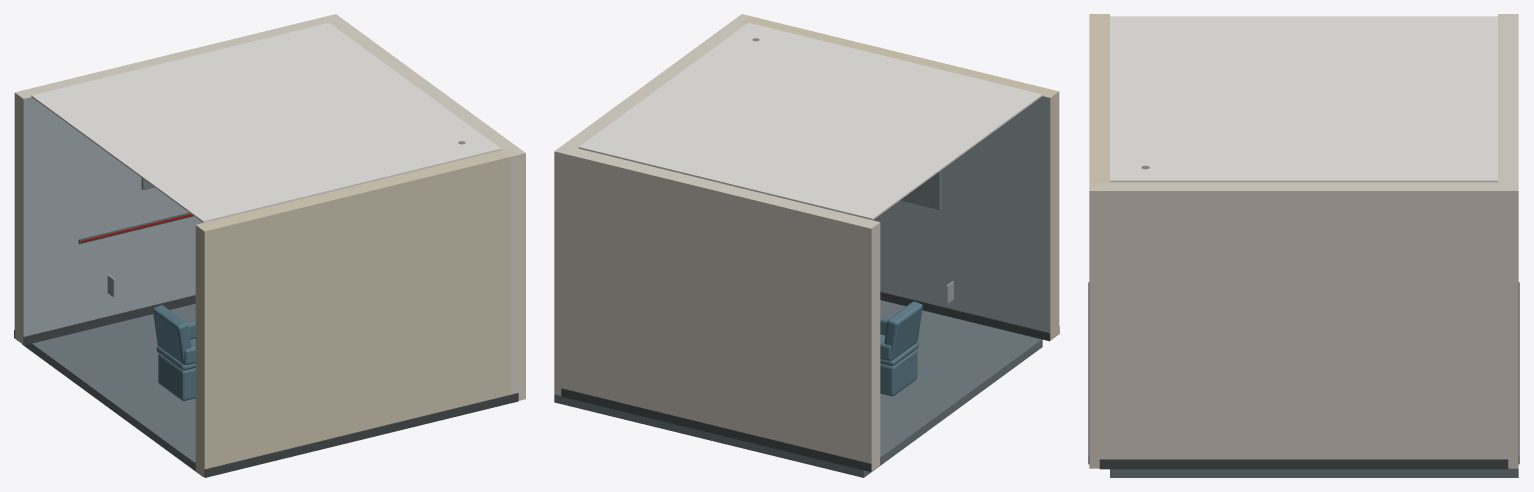
Rendered from ENV_InterviewRoom_A.glb.
The picture shows the model from 3 angles, left to right: view 1: azimuth 30°, elevation 25°; view 2: azimuth 150°, elevation 25°; view 3: azimuth 270°, elevation 25°; orthographic projection. The views are drawn at different scales.
Visible parts, largest first — view 1: ENV_InterviewRoom_A_Architecture, ENV_InterviewRoom_A_Ceiling, ENV_InterviewRoom_A_Posts, PROP_Chair_Interview_Weighted_Mesh, PROP_Duress_Strip_2m_Mesh; view 2: ENV_InterviewRoom_A_Architecture, ENV_InterviewRoom_A_Ceiling, PROP_Chair_Interview_Weighted_Mesh, ENV_InterviewRoom_A_Posts, PROP_Acoustic_Panel_Mesh; view 3: ENV_InterviewRoom_A_Architecture, ENV_InterviewRoom_A_Ceiling, ENV_InterviewRoom_A_Posts.
Boxes of the visible parts, x1=… form: ENV_InterviewRoom_A_Architecture: x1=14, y1=16, x2=520, y2=477; ENV_InterviewRoom_A_Ceiling: x1=31, y1=23, x2=501, y2=222; ENV_InterviewRoom_A_Posts: x1=322, y1=14, x2=525, y2=400; PROP_Chair_Interview_Weighted_Mesh: x1=152, y1=305, x2=195, y2=400; PROP_Duress_Strip_2m_Mesh: x1=78, y1=212, x2=193, y2=244; ENV_InterviewRoom_A_Architecture: x1=554, y1=16, x2=1059, y2=477; ENV_InterviewRoom_A_Ceiling: x1=578, y1=22, x2=1042, y2=220; PROP_Chair_Interview_Weighted_Mesh: x1=880, y1=301, x2=922, y2=395; ENV_InterviewRoom_A_Posts: x1=554, y1=14, x2=754, y2=395; PROP_Acoustic_Panel_Mesh: x1=900, y1=170, x2=941, y2=209; ENV_InterviewRoom_A_Architecture: x1=1088, y1=14, x2=1519, y2=477; ENV_InterviewRoom_A_Ceiling: x1=1110, y1=16, x2=1497, y2=182; ENV_InterviewRoom_A_Posts: x1=1089, y1=182, x2=1518, y2=468.
Size of what is drawn, in the model's own units: 4.11 by 3.13 by 4.22.
